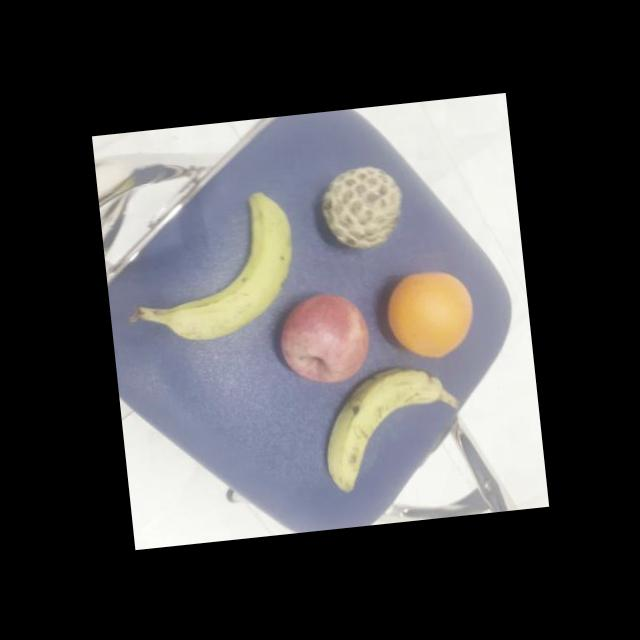Sakya fruit: (313, 160, 407, 257)
apple: (274, 282, 376, 388)
banana: (146, 182, 305, 354), (319, 363, 457, 499)
orange: (379, 262, 479, 362)
